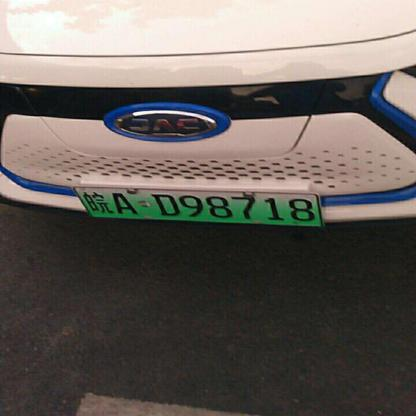lp: (74, 188, 322, 224)
